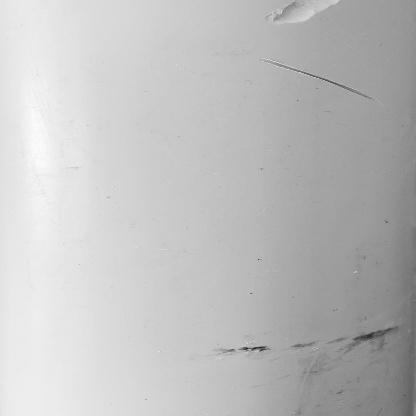sunshang: (259, 47, 391, 113), (265, 2, 357, 24)
